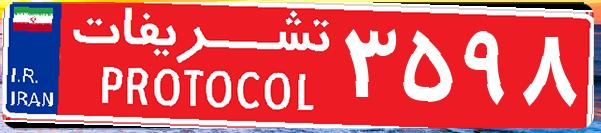3: (340, 20, 400, 115)
5: (400, 20, 460, 115)
8: (520, 20, 580, 115)
9: (460, 20, 520, 115)
تشریفات: (60, 8, 340, 125)
